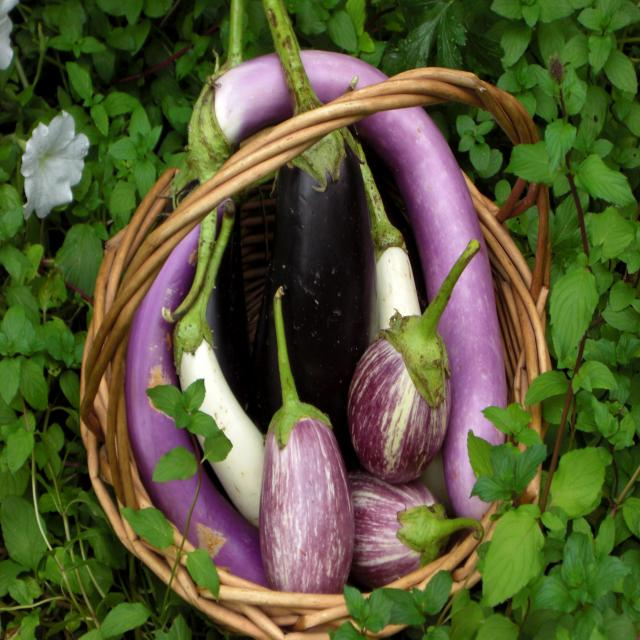Eggplant: (260, 149, 359, 395), (259, 399, 351, 594), (348, 323, 449, 477), (354, 477, 442, 581)
